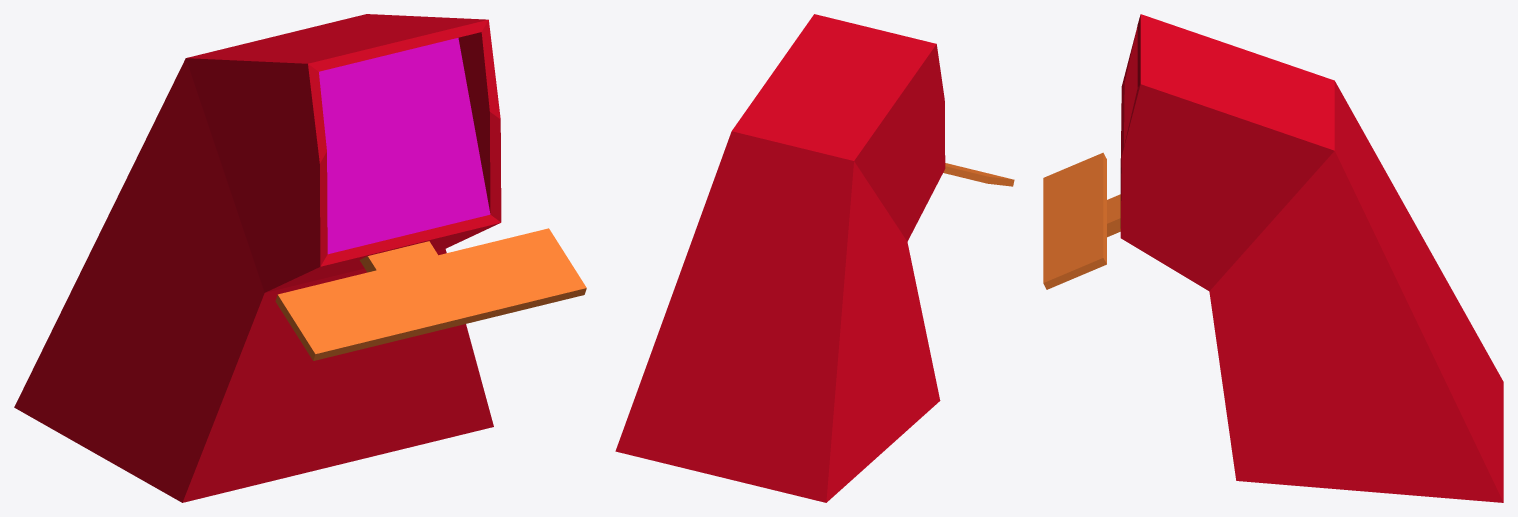
File: Console.fbx
3 views of the same model, side by side, from view 1: azimuth 30°, elevation 25°; view 2: azimuth 150°, elevation 25°; view 3: azimuth 270°, elevation 25° (orthographic). The views are drawn at different scales.
Parts seen in each view (by area): view 1: Console, ConsoleScreen, KeyBoard; view 2: Console, KeyBoard; view 3: Console, KeyBoard.
Part boxes in pixels (x1,y1,x2,y2): Console: (14,14,501,502); ConsoleScreen: (319,38,490,254); KeyBoard: (275,228,586,360); Console: (615,14,945,502); KeyBoard: (943,163,1014,186); Console: (1120,14,1503,502); KeyBoard: (1043,152,1120,289).
Bounding box in the file's own units: 345 × 523 × 555.
